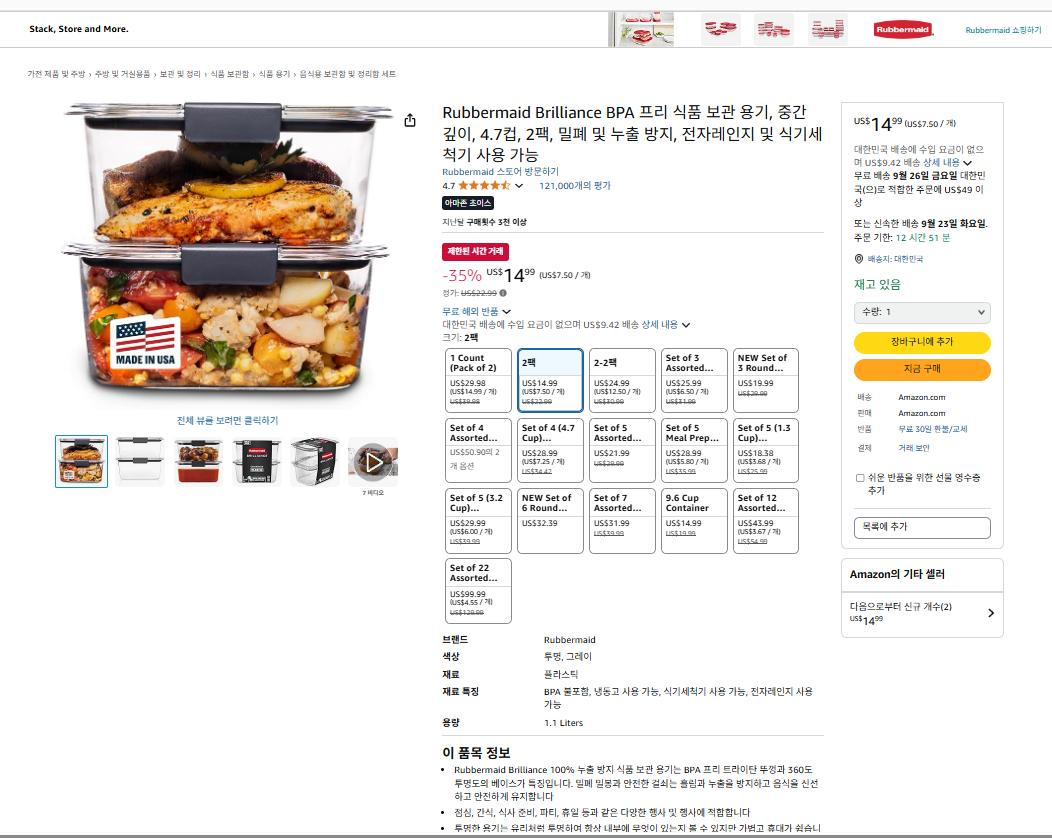button: (843, 595, 1009, 635), (441, 485, 516, 560), (438, 558, 516, 628), (442, 414, 515, 486), (589, 414, 661, 486), (519, 486, 588, 560), (588, 343, 659, 414), (592, 486, 660, 560), (734, 344, 803, 416), (516, 416, 585, 488), (445, 346, 514, 414), (734, 418, 803, 486), (663, 345, 729, 416), (665, 489, 732, 558), (736, 486, 803, 555), (851, 295, 998, 326), (661, 419, 729, 485), (853, 358, 994, 388), (518, 349, 585, 411), (854, 330, 990, 356), (349, 436, 405, 496), (54, 433, 110, 489), (171, 431, 224, 489), (170, 411, 299, 434), (226, 438, 284, 485), (289, 440, 341, 490), (114, 433, 166, 481), (438, 162, 566, 180), (854, 245, 940, 271), (960, 19, 1048, 41), (892, 420, 980, 440), (636, 315, 701, 338), (440, 302, 518, 320), (921, 151, 981, 171), (536, 180, 615, 194), (896, 229, 956, 245), (891, 439, 944, 455), (403, 109, 419, 130), (510, 181, 526, 195)
checkbox: (850, 461, 1000, 504)
input_field: (851, 511, 999, 543)
popup: (1, 8, 950, 52)
